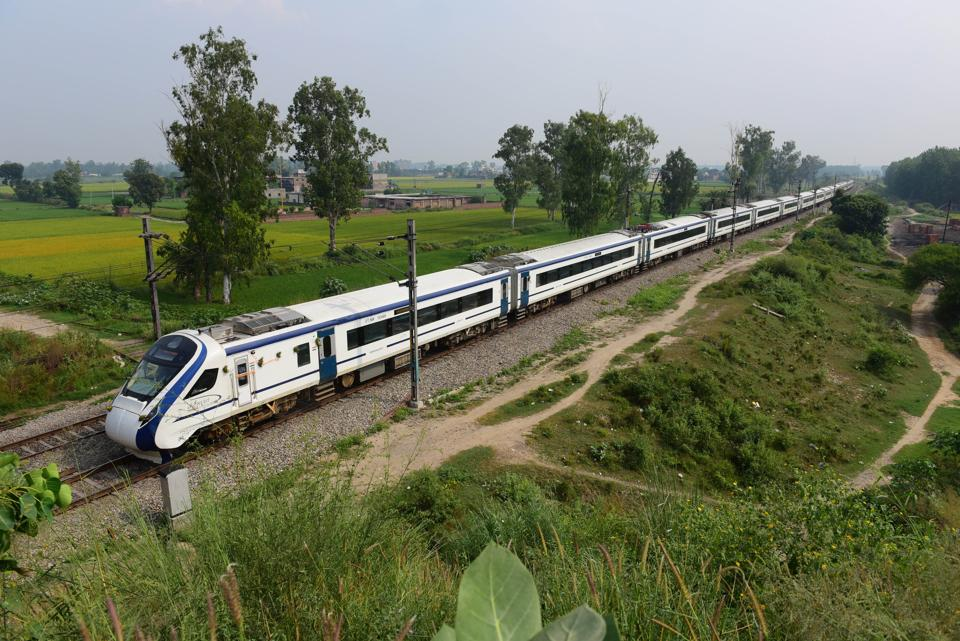train: (111, 168, 859, 488)
